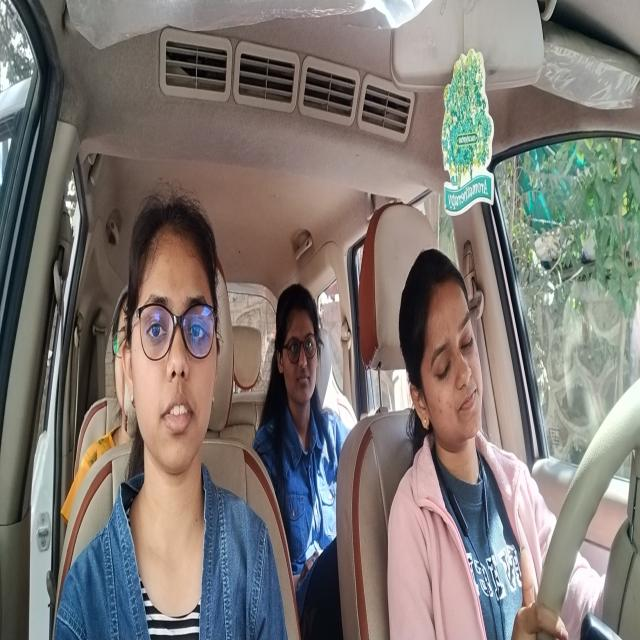drowsy: (397, 243, 492, 458)
person: (124, 189, 222, 488), (269, 276, 324, 429)
